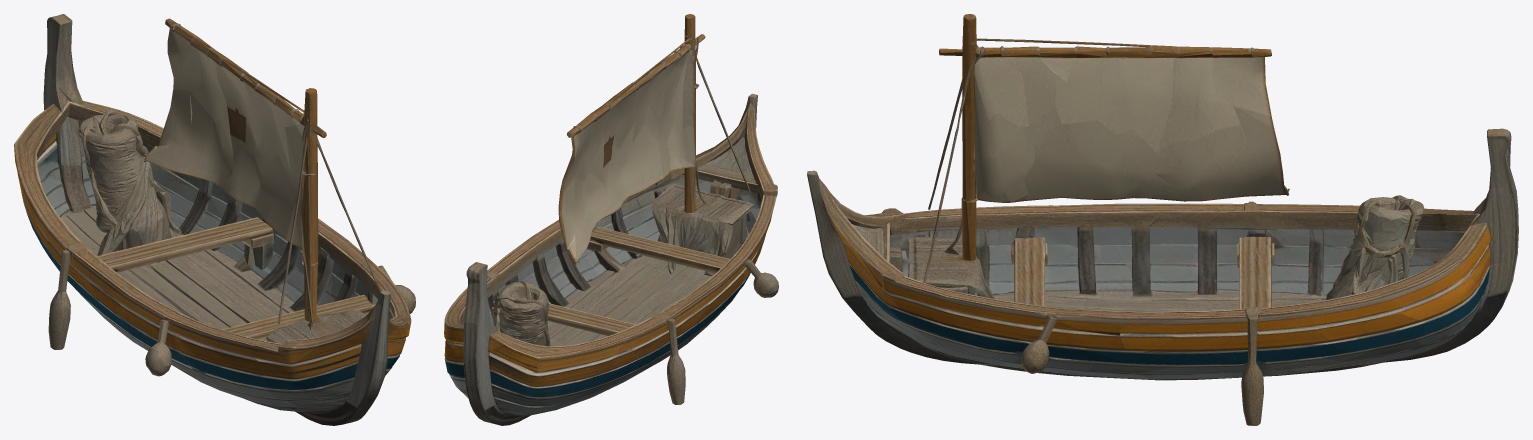
The model's file is fishing-boat.glb.
3 views of the same model, side by side, from view 1: azimuth 30°, elevation 25°; view 2: azimuth 150°, elevation 25°; view 3: azimuth 270°, elevation 25° (orthographic). The views are drawn at different scales.
Visible parts, largest first — view 1: fishing-boat; view 2: fishing-boat; view 3: fishing-boat.
Boxes of the visible parts, left/top/right/bottom form: fishing-boat: left=14, top=14, right=415, bottom=425; fishing-boat: left=444, top=14, right=778, bottom=425; fishing-boat: left=807, top=14, right=1518, bottom=425.
Size of the model in its own units: 2.75 by 3.23 by 6.
1 material, 1 textured.
